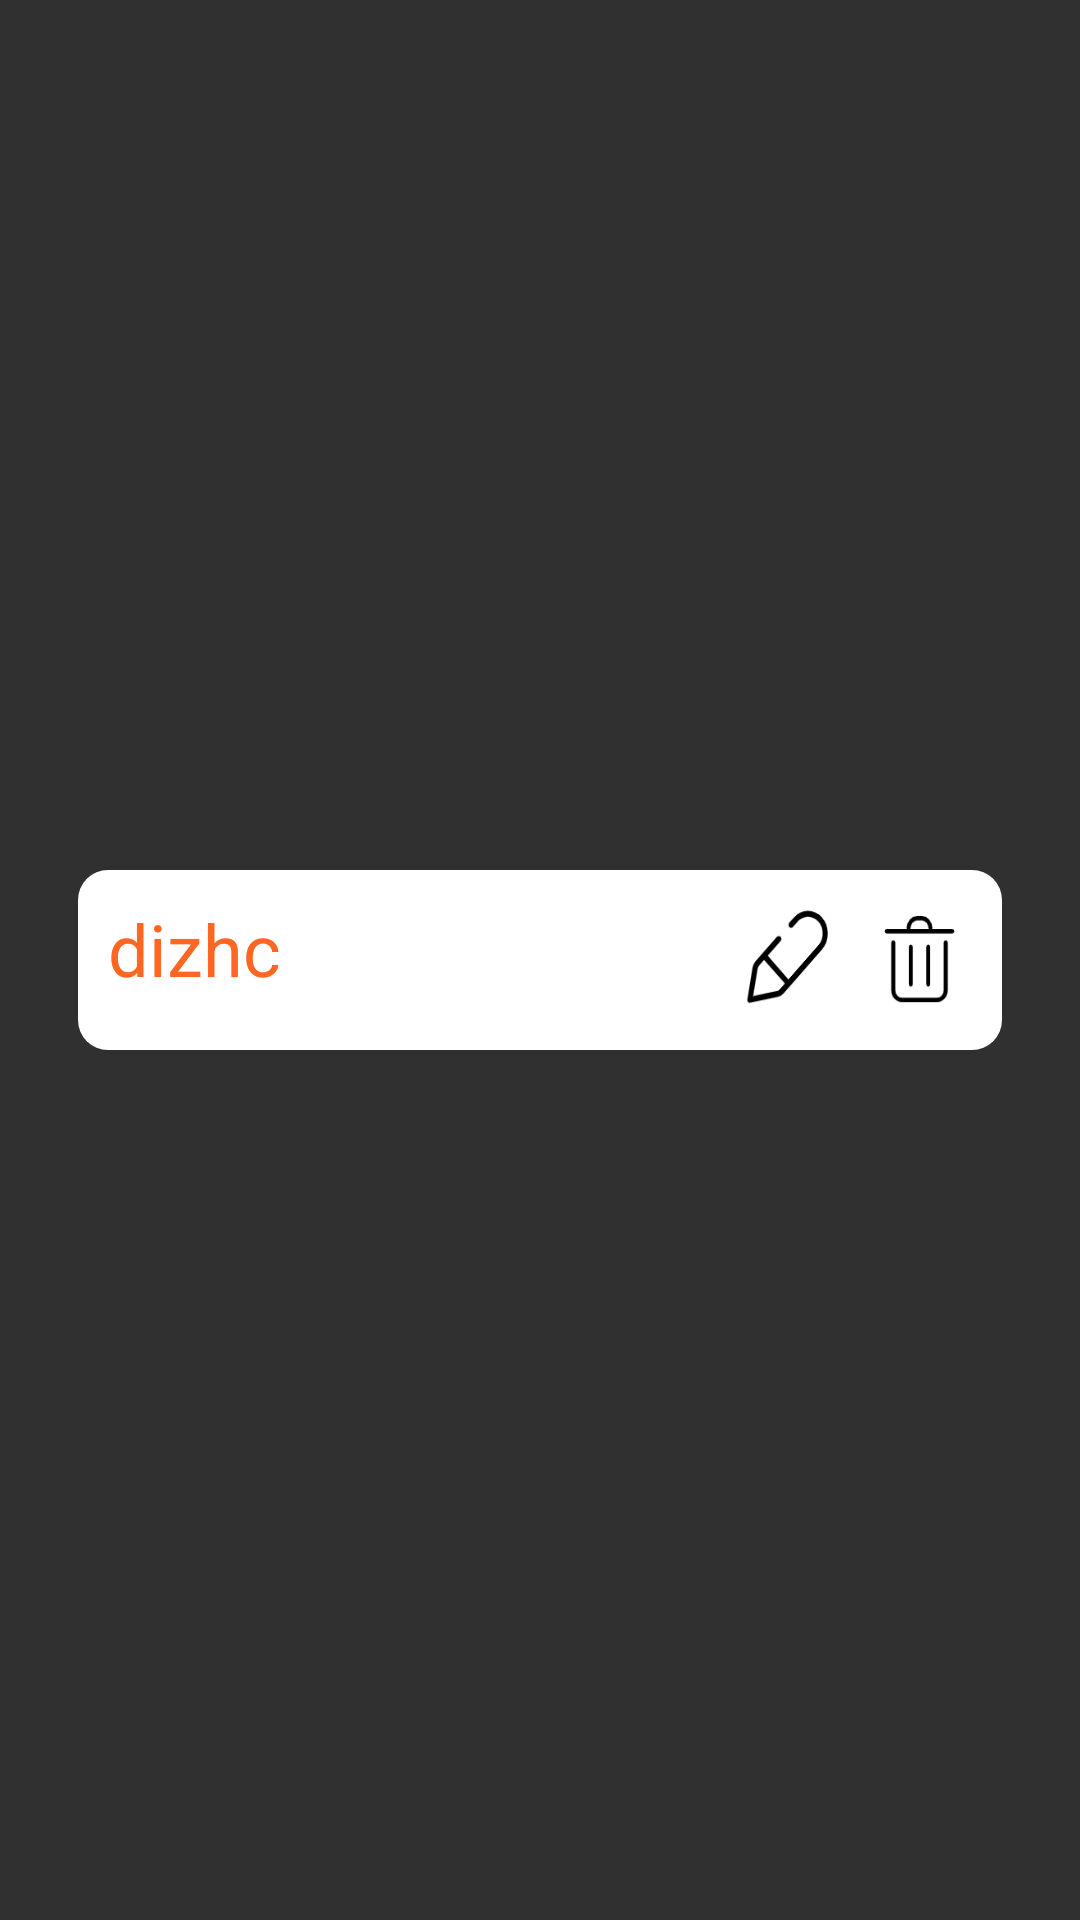

Screen size 1080w x 1920h. Icon name, then its center in pixels as [x,y]:
change: [787,956]
delete: [919,959]
